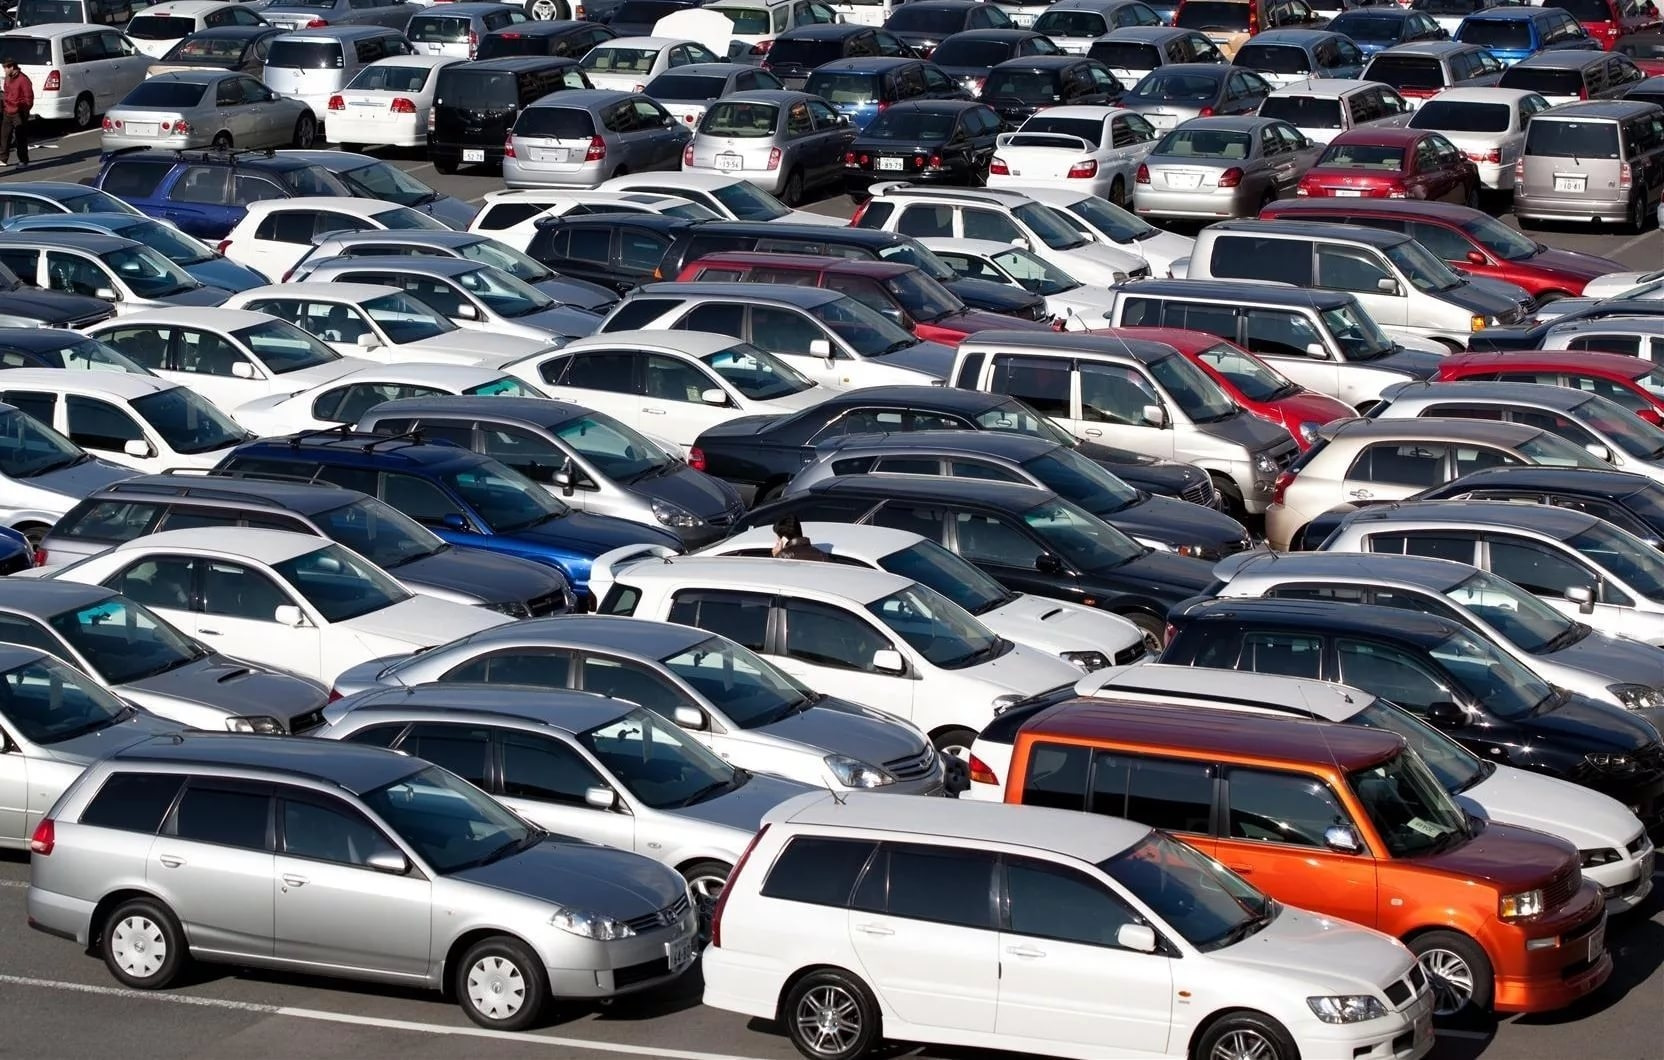Car: (25, 734, 699, 1030), (1003, 699, 1612, 1020), (702, 793, 1434, 1060), (959, 662, 1654, 917), (1152, 595, 1664, 848), (320, 685, 825, 918), (598, 555, 1079, 790), (327, 615, 946, 794), (731, 474, 1215, 657), (217, 422, 686, 608), (1202, 551, 1664, 739), (586, 519, 1150, 673), (7, 526, 522, 686), (36, 475, 575, 619), (689, 387, 1220, 511), (948, 331, 1298, 517), (777, 431, 1253, 560), (357, 397, 745, 549), (0, 579, 329, 735), (1315, 501, 1664, 648), (1265, 418, 1620, 549), (233, 363, 689, 465), (1187, 220, 1525, 354), (1110, 277, 1441, 412), (656, 221, 1049, 324), (599, 278, 952, 392), (0, 644, 193, 851), (1167, 217, 1538, 323), (507, 330, 832, 450), (1071, 326, 1361, 455), (1258, 199, 1623, 301), (676, 252, 1061, 347), (845, 181, 1151, 287), (1289, 466, 1664, 551), (1065, 275, 1452, 354), (80, 306, 364, 412), (1367, 382, 1664, 483), (218, 283, 555, 369), (279, 230, 617, 315), (290, 256, 602, 344), (0, 370, 257, 472), (95, 150, 351, 240), (5, 212, 264, 295), (0, 401, 138, 555), (1132, 116, 1327, 223), (217, 198, 457, 284), (680, 91, 857, 204), (1512, 101, 1664, 230), (428, 57, 594, 173), (980, 186, 1193, 275), (502, 90, 690, 189), (0, 232, 226, 314), (845, 101, 1016, 209), (1427, 351, 1664, 427), (101, 70, 317, 154), (987, 106, 1159, 207), (267, 149, 475, 232), (0, 24, 156, 129), (262, 25, 418, 126), (913, 238, 1112, 317), (468, 190, 722, 251), (1403, 89, 1549, 190), (1297, 126, 1478, 206), (586, 172, 847, 227), (325, 55, 465, 154), (579, 8, 735, 93), (525, 213, 682, 297), (803, 57, 974, 130), (760, 23, 923, 92), (975, 56, 1126, 130), (1115, 65, 1275, 135), (639, 63, 788, 137), (1255, 80, 1414, 146), (1468, 300, 1664, 352), (1358, 42, 1508, 110), (927, 29, 1066, 101), (702, 0, 847, 67), (1172, 0, 1327, 59), (124, 0, 275, 61), (1087, 27, 1229, 91), (1498, 49, 1647, 104), (144, 25, 292, 81), (1454, 8, 1599, 65), (0, 327, 161, 378), (0, 264, 118, 332), (1231, 29, 1368, 87), (884, 0, 1019, 58), (1033, 0, 1162, 55), (0, 182, 142, 230), (404, 2, 523, 59), (1539, 317, 1664, 367), (1540, 0, 1664, 51), (1324, 8, 1447, 58), (260, 0, 427, 33), (1535, 279, 1664, 321), (475, 22, 619, 59), (16, 0, 169, 32), (1411, 0, 1501, 39), (606, 0, 701, 36), (500, 0, 626, 23), (821, 0, 916, 27), (1612, 32, 1664, 76), (1580, 268, 1664, 296), (982, 0, 1061, 29), (1305, 0, 1403, 19), (0, 525, 33, 574), (1618, 76, 1664, 110), (1135, 0, 1180, 25), (408, 0, 462, 8), (210, 0, 257, 7), (0, 11, 16, 32), (1657, 187, 1664, 230), (251, 0, 274, 12), (5, 4, 18, 22), (1398, 0, 1414, 10)
